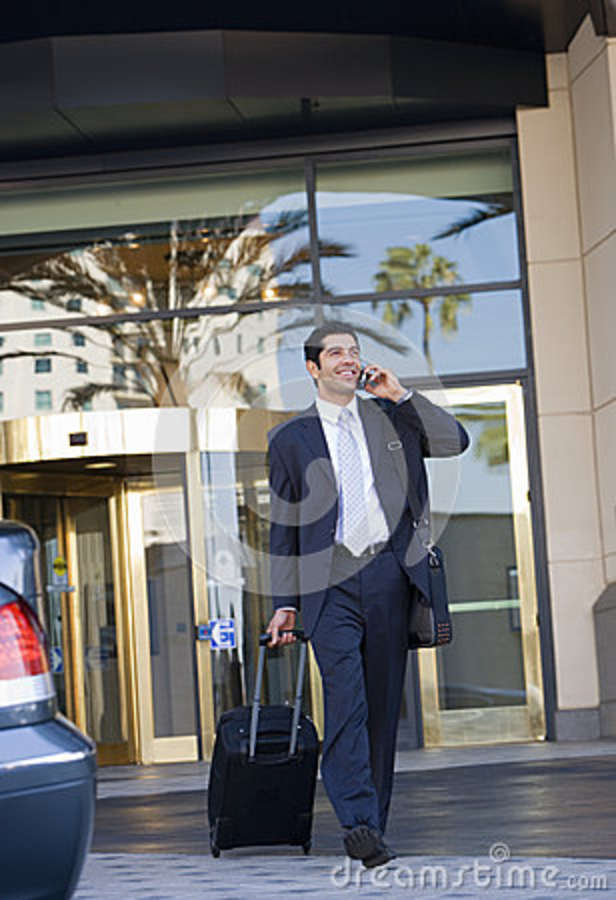talk: (322, 343, 401, 398)
